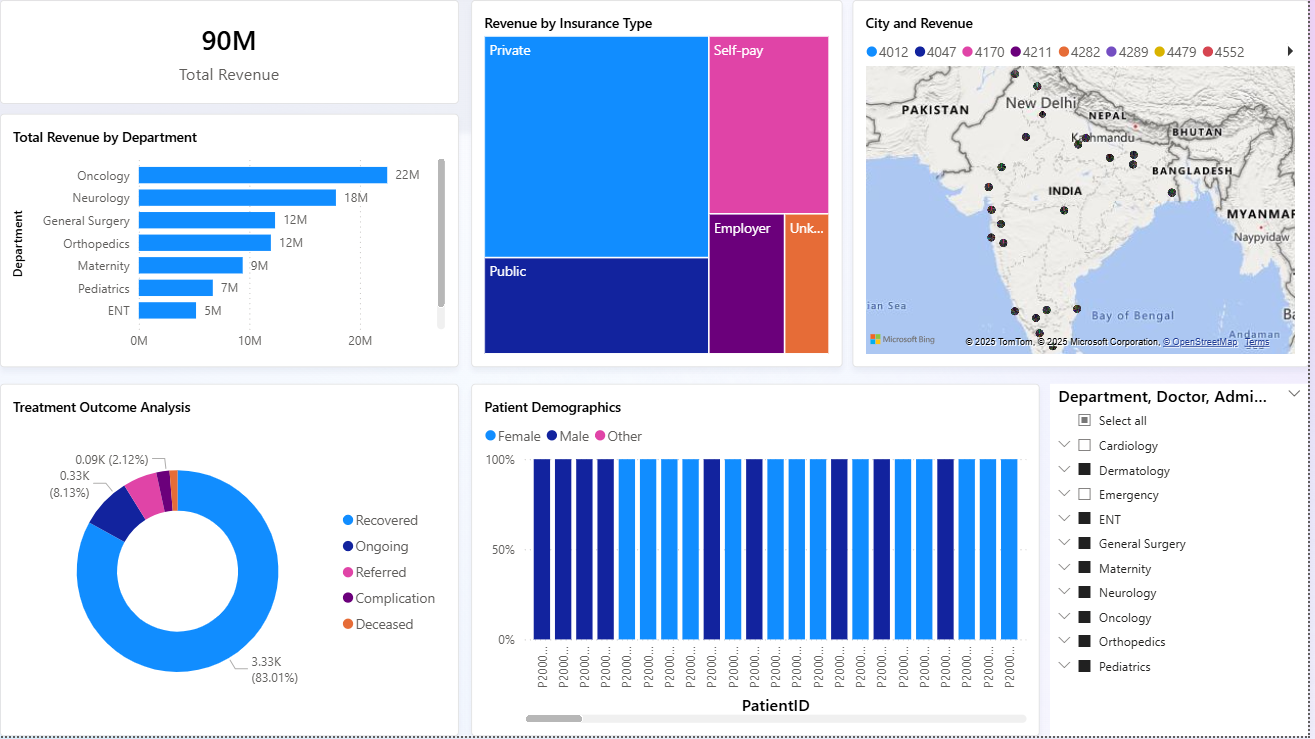

This screenshot's page, from the dashboard's own definition file:
{"tool":"powerbi","page":{"name":"Page 2","canvas":[1280,720],"ordinal":1},"visuals":[{"type":"card","fields":{"Values":["Sheet1.Total Revenue"]},"box":[0,0,448.8,101.5],"z":0},{"type":"barChart","fields":{"Category":["Sheet1.Department"],"Y":["Sheet1.Total Revenue"]},"box":[0,111.3,448.8,248.2],"z":1000},{"type":"donutChart","title":"Treatment Outcome Analysis","fields":{"Category":["Sheet1.Outcome"],"Y":["CountNonNull(Sheet1.PatientID)"]},"box":[0,375.4,448.8,344.8],"z":2000},{"type":"hundredPercentStackedColumnChart","title":"Patient Demographics","fields":{"Series":["Sheet1.Gender"],"Y":["CountNonNull(Sheet1.AgeGroup)"],"Category":["Sheet1.PatientID"]},"box":[461,375.4,556.4,344.8],"z":3000},{"type":"treemap","title":"Revenue by Insurance Type","fields":{"Group":["Sheet1.InsuranceType"],"Values":["Sum(Sheet1.Revenue)"]},"box":[461,0,363.2,359.5],"z":3001},{"type":"map","fields":{"Category":["Sheet1.City","Sheet1.State"],"Series":["Sheet1.Revenue"]},"box":[834,0,446.3,359.5],"z":3002},{"type":"slicer","fields":{"Values":["Sheet1.Department","Sheet1.Doctor","Sheet1.AdmissionYear","Sheet1.Outcome"]},"box":[1027.2,375.4,253.1,344.8],"z":3003}]}

Visuals, with their boxes in screenshot pixels (x1, y1, x2, y2), scaled from the page's 1280x720 canvas onto the 1315x739 screenshot:
card - Sheet1.Total Revenue: 0 0 461 104
barChart - Sheet1.Department x Sheet1.Total Revenue: 0 114 461 369
"Treatment Outcome Analysis" donutChart: 0 385 461 738
"Patient Demographics" hundredPercentStackedColumnChart: 474 385 1045 738
"Revenue by Insurance Type" treemap: 474 0 847 369
map - Sheet1.City x Sheet1.State: 857 0 1314 369
slicer - Sheet1.Department x Sheet1.Doctor: 1055 385 1314 738
